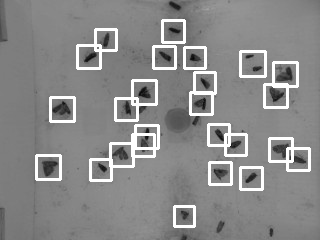insect: (49, 99, 72, 115), (39, 159, 59, 177), (267, 84, 286, 102), (271, 141, 290, 159), (274, 64, 294, 81), (111, 144, 129, 161), (135, 84, 152, 100), (156, 48, 173, 63), (211, 166, 229, 180), (192, 95, 207, 111), (82, 49, 99, 63), (287, 154, 308, 165), (198, 75, 212, 91), (212, 126, 226, 142), (101, 29, 112, 49), (243, 170, 258, 184), (135, 102, 148, 117), (167, 0, 184, 11), (139, 136, 150, 153), (96, 159, 109, 173), (190, 111, 202, 126), (227, 138, 242, 150), (187, 51, 203, 62), (123, 98, 132, 117), (166, 25, 183, 35), (179, 207, 191, 221), (214, 218, 225, 233), (250, 63, 264, 73), (142, 126, 151, 140), (267, 226, 275, 239), (243, 52, 256, 59)
